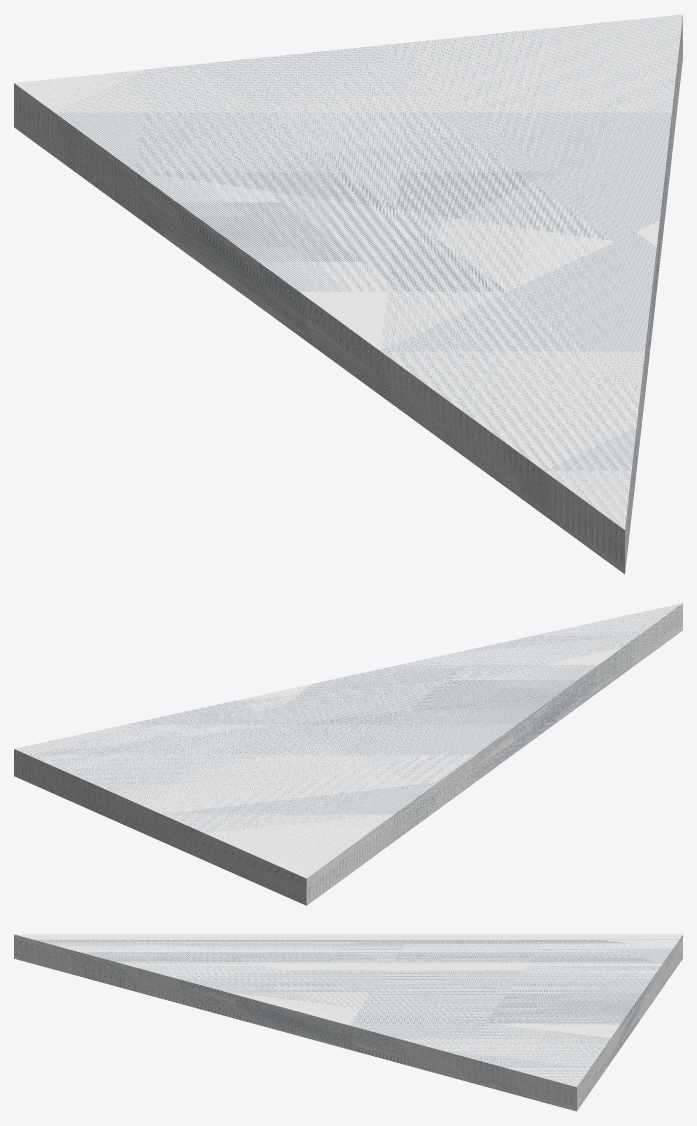
Rendered from triangle 32 deg.fbx.
3 views of the same model, one above another, from view 1: azimuth 30°, elevation 25°; view 2: azimuth 150°, elevation 25°; view 3: azimuth 270°, elevation 25° (orthographic). The views are drawn at different scales.
Parts seen in each view (by area): view 1: Model; view 2: Model; view 3: Model.
Boxes of the visible parts, box(x1,y1,x2,y2) form: Model: box(14, 14, 682, 574); Model: box(14, 603, 682, 905); Model: box(14, 934, 682, 1111).
Bounding box in the file's own units: 2.7 × 0.2 × 5.
